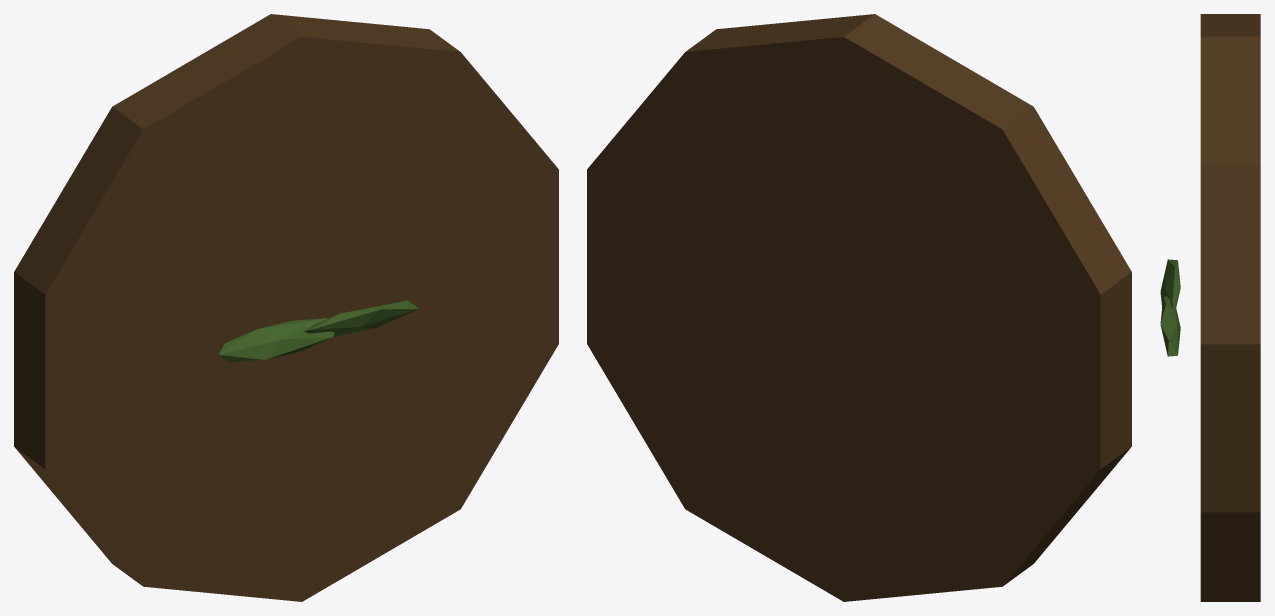
Rendered from 1_seedling.obj.
3 views of the same model, side by side, from view 1: azimuth 30°, elevation 25°; view 2: azimuth 150°, elevation 25°; view 3: azimuth 270°, elevation 25° (orthographic). The views are drawn at different scales.
Visible parts, largest first — view 1: rose_1_seedling; view 2: rose_1_seedling; view 3: rose_1_seedling.
Boxes of the visible parts, x1,y1,x2,y2 form: rose_1_seedling: (14, 14, 558, 601); rose_1_seedling: (587, 14, 1131, 601); rose_1_seedling: (1160, 14, 1260, 601).
Size of the model in its own units: 0.1902 by 0.2 by 0.0334.
